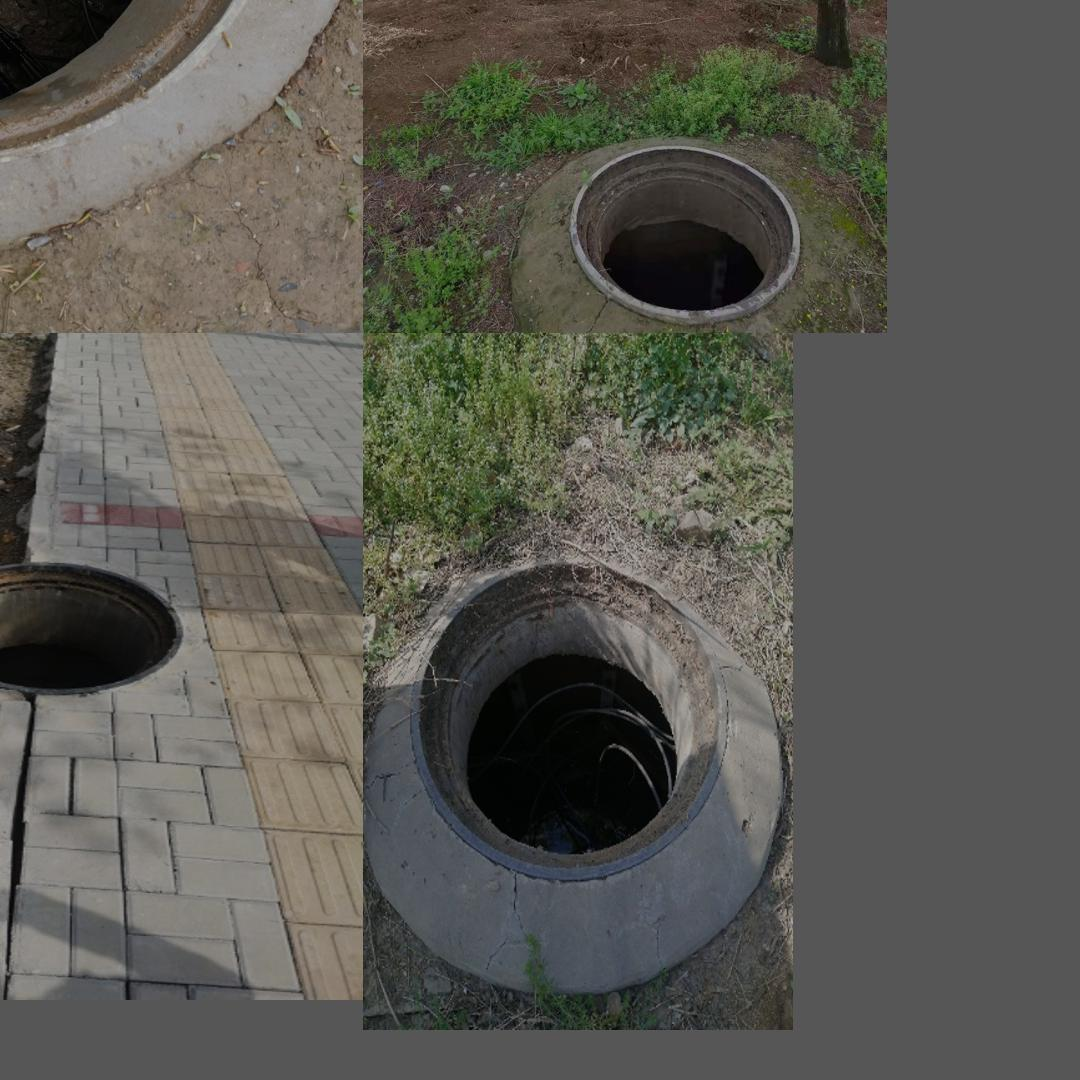lose: (409, 554, 729, 881), (0, 0, 337, 264), (567, 144, 802, 322), (0, 561, 185, 693)
